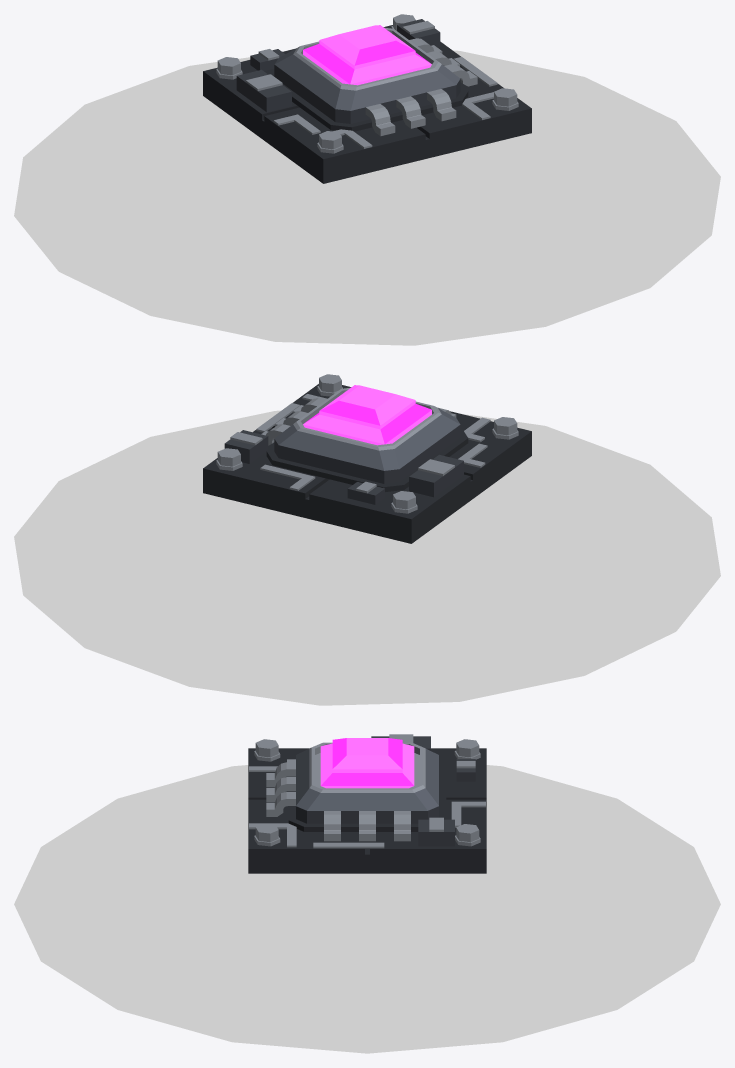
Rendered from SM_XPChipBig.fbx.
3 renders of one model, top to bottom at view 1: azimuth 30°, elevation 25°; view 2: azimuth 150°, elevation 25°; view 3: azimuth 270°, elevation 25°, orthographic.
Visible parts, largest first — view 1: SM_XPChipBig; view 2: SM_XPChipBig; view 3: SM_XPChipBig.
Boxes of the visible parts, x1,y1,x2,y2 form: SM_XPChipBig: (14,14,720,345); SM_XPChipBig: (14,374,720,705); SM_XPChipBig: (14,734,720,1053).
Size of the model in its own units: 88.88 by 21.86 by 88.88.
